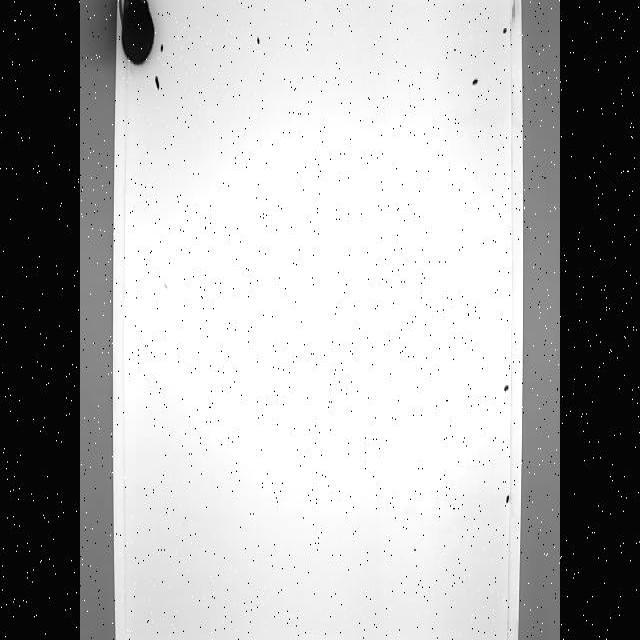rat: (118, 3, 155, 68)
